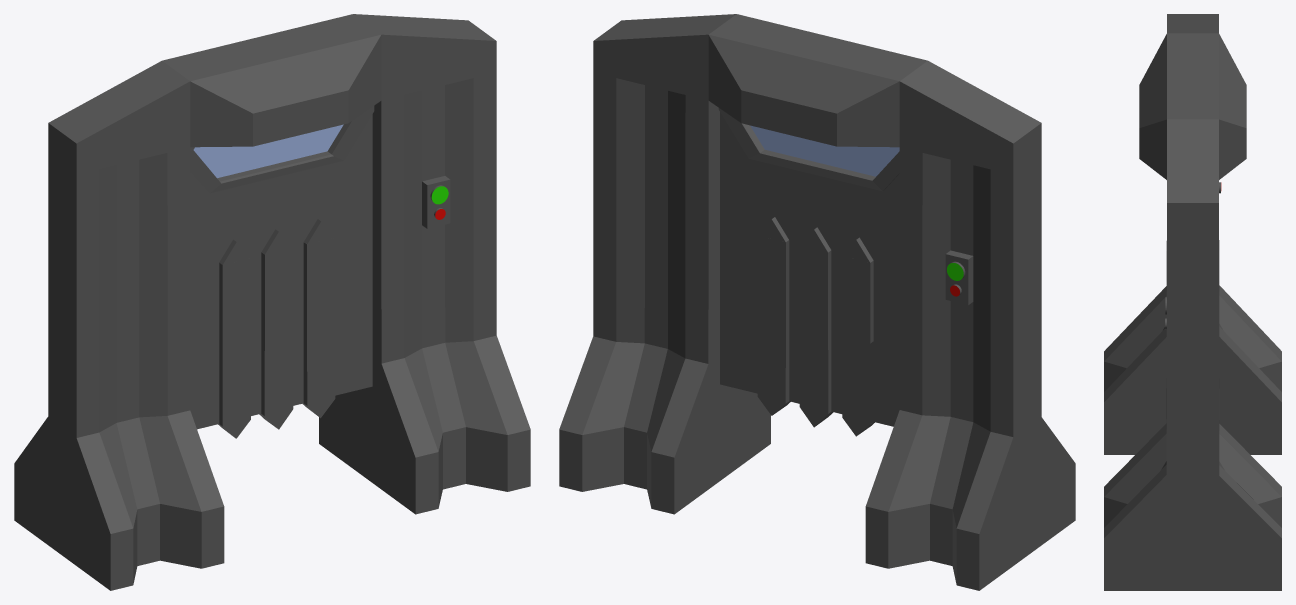
File: smallDoor.fbx
3 views of the same model, side by side, from view 1: azimuth 30°, elevation 25°; view 2: azimuth 150°, elevation 25°; view 3: azimuth 270°, elevation 25° (orthographic). The views are drawn at different scales.
Parts seen in each view (by area): view 1: Frame, Door; view 2: Frame, Door; view 3: Frame.
Boxes of the visible parts, x1,y1,x2,y2 form: Frame: (14, 14, 530, 590); Door: (190, 106, 374, 438); Frame: (559, 14, 1075, 590); Door: (718, 108, 899, 436); Frame: (1104, 14, 1281, 590).
Bounding box in the file's own units: 1738 × 1807 × 691.
